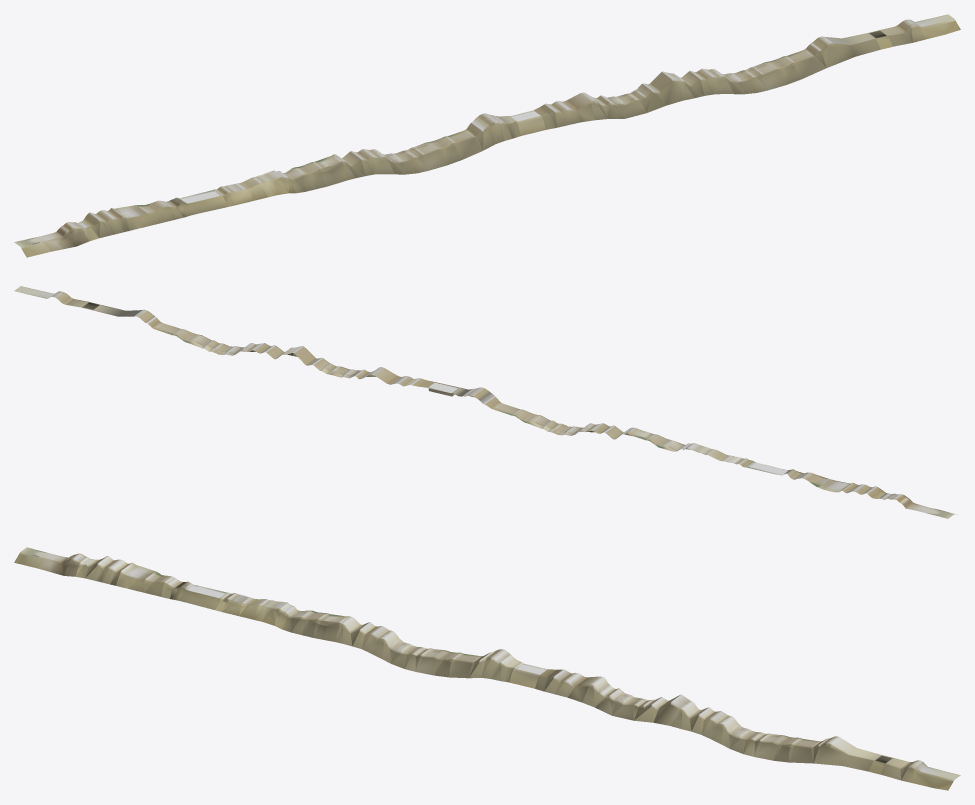
File: Beach_15.fbx
3 renders of one model, top to bottom at view 1: azimuth 30°, elevation 25°; view 2: azimuth 150°, elevation 25°; view 3: azimuth 330°, elevation 25°, orthographic.
Parts seen in each view (by area): view 1: Road_01; view 2: Road_01; view 3: Road_01.
Part boxes in pixels (box(x1,y1,x2,y2)): Road_01: box(14, 14, 960, 257); Road_01: box(14, 286, 955, 518); Road_01: box(14, 547, 960, 790).
Size of the model in its own units: 113055 by 3468 by 3907.
